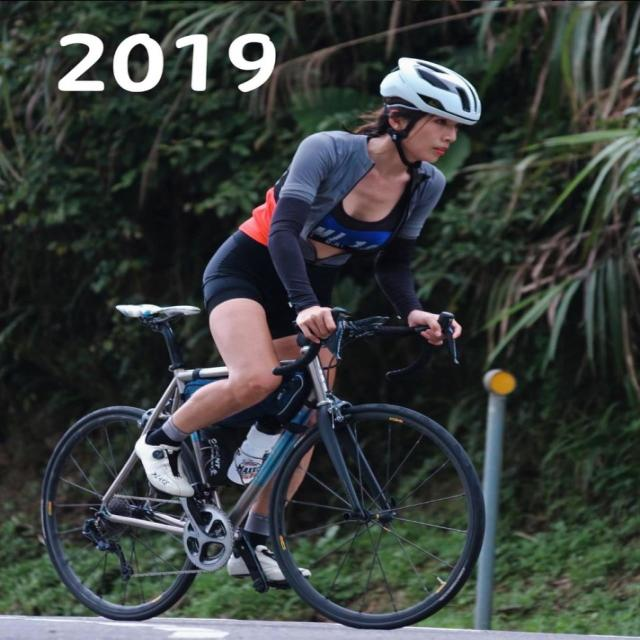illegal_helmet: (374, 51, 486, 170)
